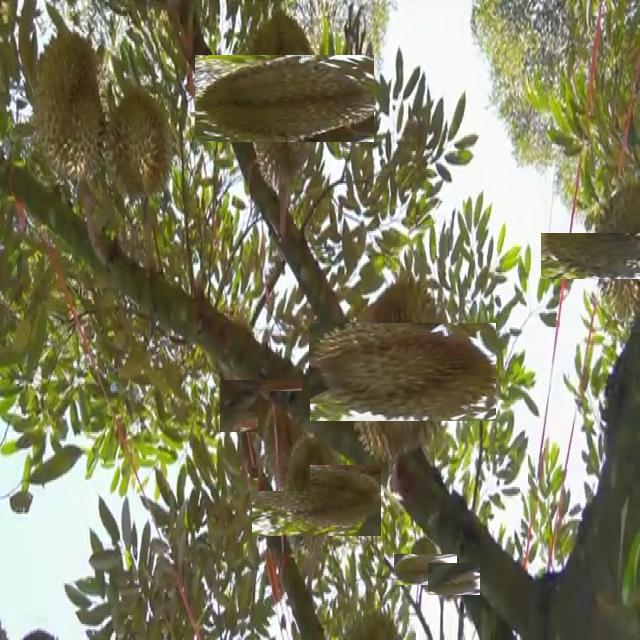durian: (331, 301, 474, 444), (218, 32, 351, 165), (32, 29, 107, 190), (267, 450, 367, 551), (107, 88, 178, 204), (566, 207, 640, 306), (258, 391, 310, 491), (227, 372, 294, 439), (402, 545, 449, 593), (433, 557, 475, 600)
